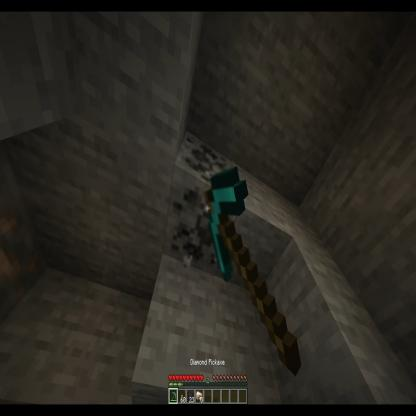coal ore: (162, 143, 234, 276)
iron ore: (0, 147, 44, 329)
